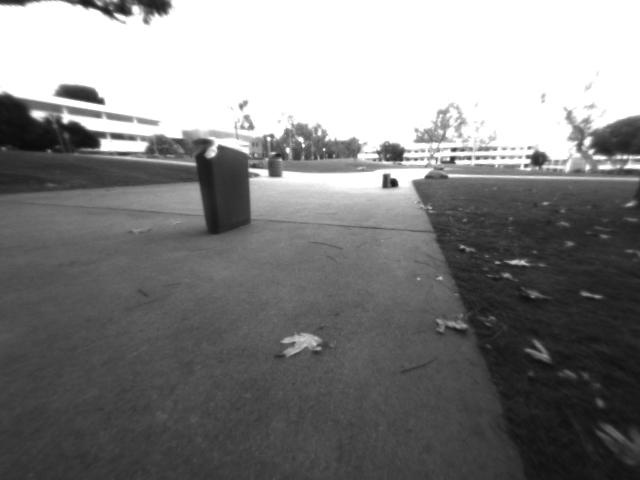trashcan_open: (186, 134, 254, 235)
